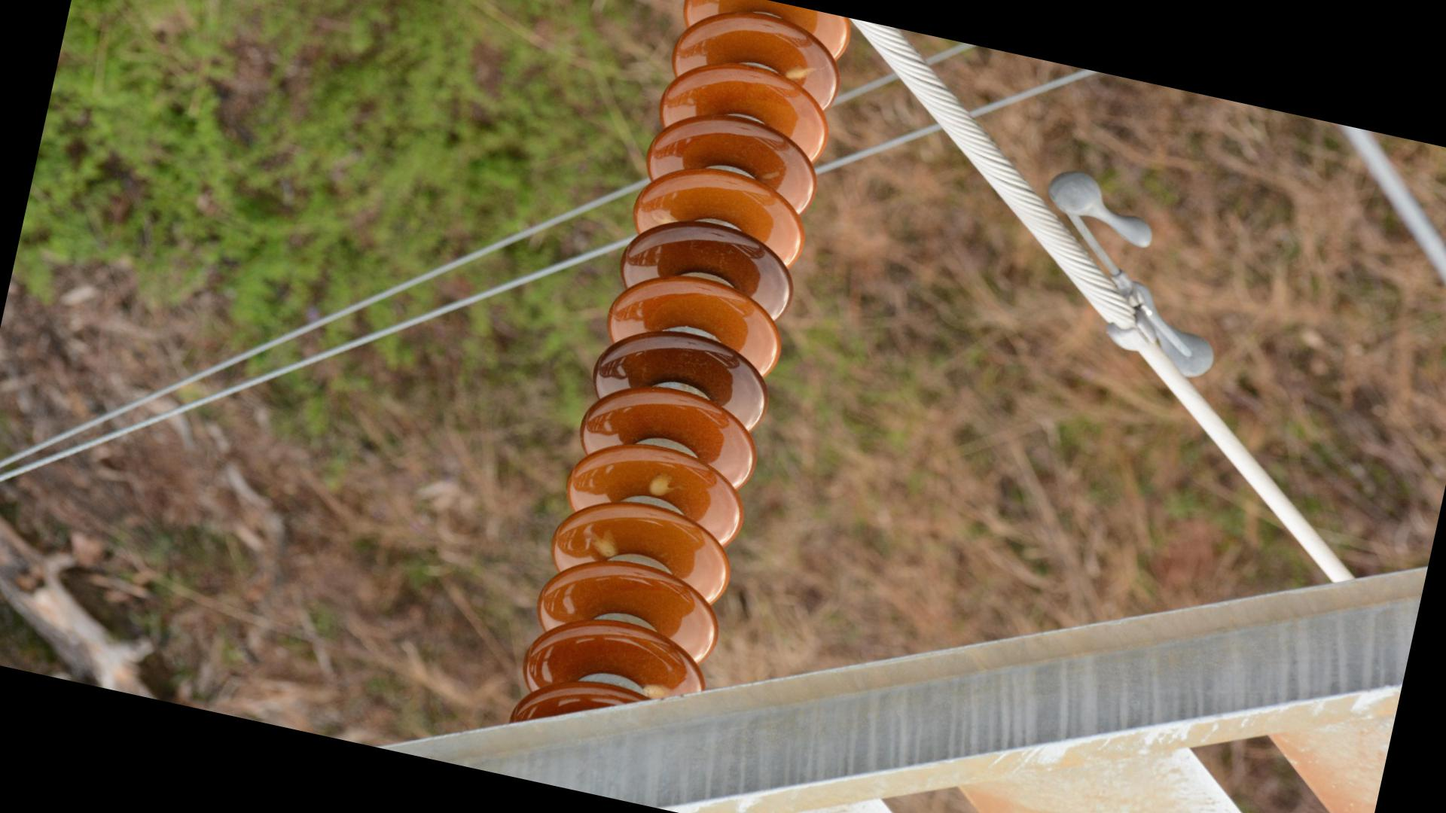damper: (1005, 155, 1257, 394)
